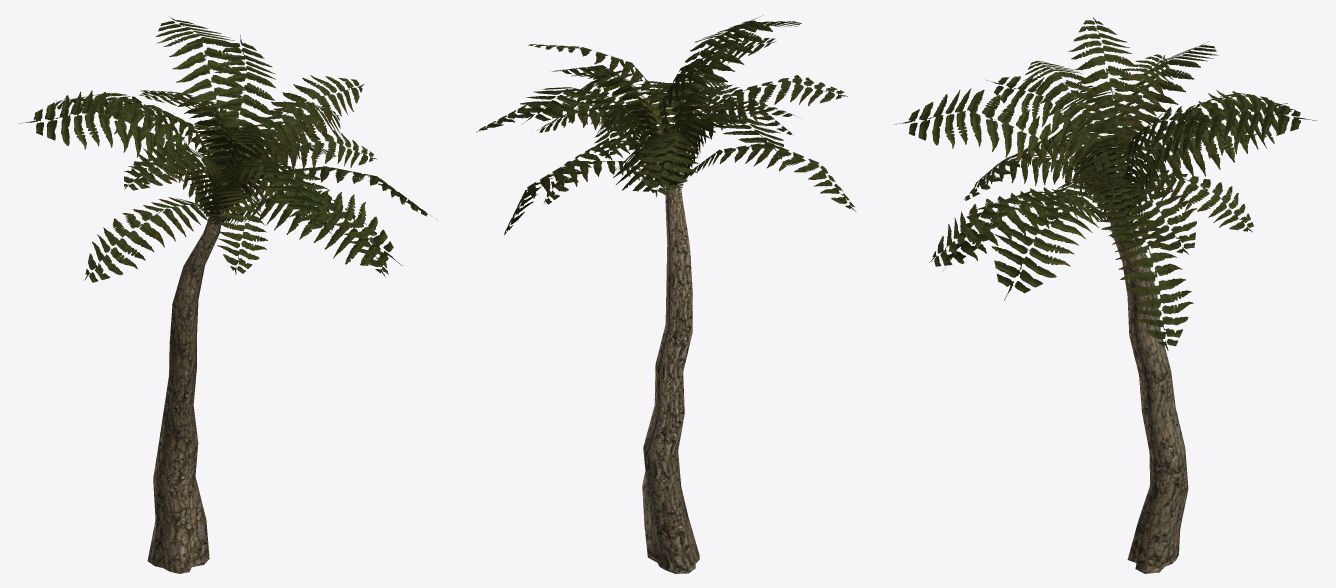
File: palm1.glb
The picture shows the model from 3 angles, left to right: view 1: azimuth 30°, elevation 25°; view 2: azimuth 150°, elevation 25°; view 3: azimuth 270°, elevation 25°; orthographic projection.
Parts seen in each view (by area): view 1: Palm1; view 2: Palm1; view 3: Palm1.
Boxes of the visible parts, x1,y1,x2,y2 form: Palm1: (18,16,436,573); Palm1: (476,15,856,573); Palm1: (894,17,1316,573).
Bounding box in the file's own units: 8.93 × 13.18 × 10.11.
2 materials, 2 textured.
